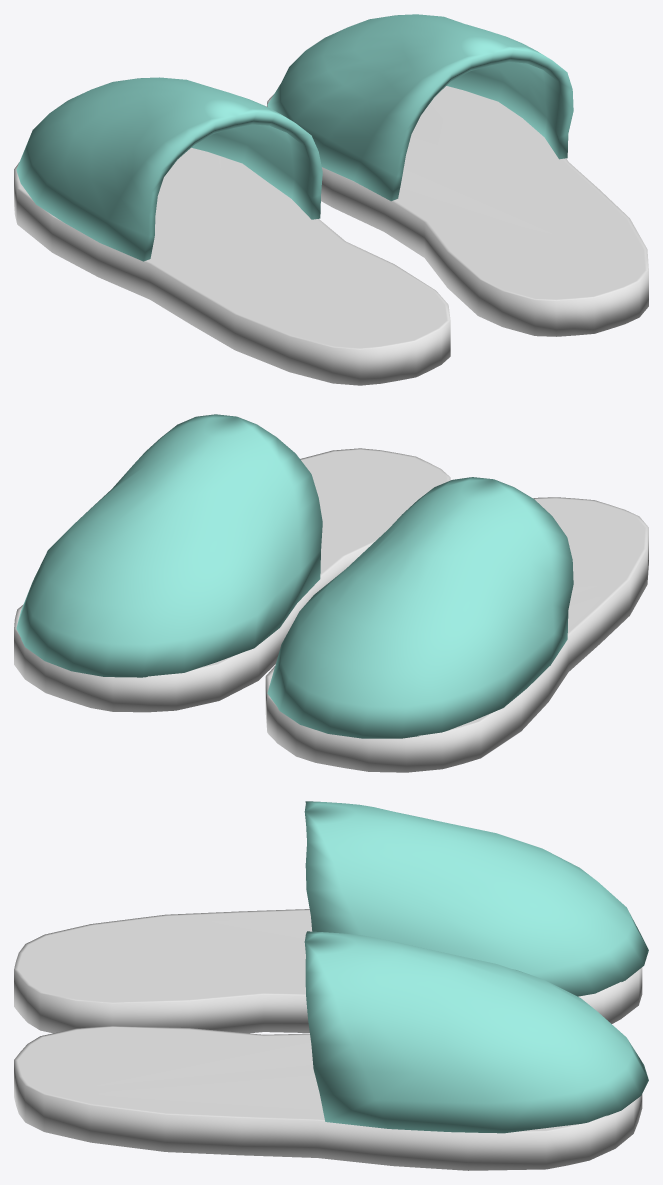
Rendered from aamutossut.fbx.
3 renders of one model, top to bottom at view 1: azimuth 30°, elevation 25°; view 2: azimuth 150°, elevation 25°; view 3: azimuth 270°, elevation 25°, orthographic. The views are drawn at different scales.
Visible parts, largest first — view 1: Pohja, Sphere; view 2: Sphere, Pohja; view 3: Sphere, Pohja.
Boxes of the visible parts, box(x1,y1,x2,y2) form: Pohja: box(14, 86, 648, 385); Sphere: box(16, 14, 573, 261); Sphere: box(16, 414, 573, 738); Pohja: box(14, 448, 648, 772); Sphere: box(304, 801, 648, 1133); Pohja: box(14, 909, 642, 1170).
Bounding box in the file's own units: 0.2028 × 0.0697 × 0.2289.
